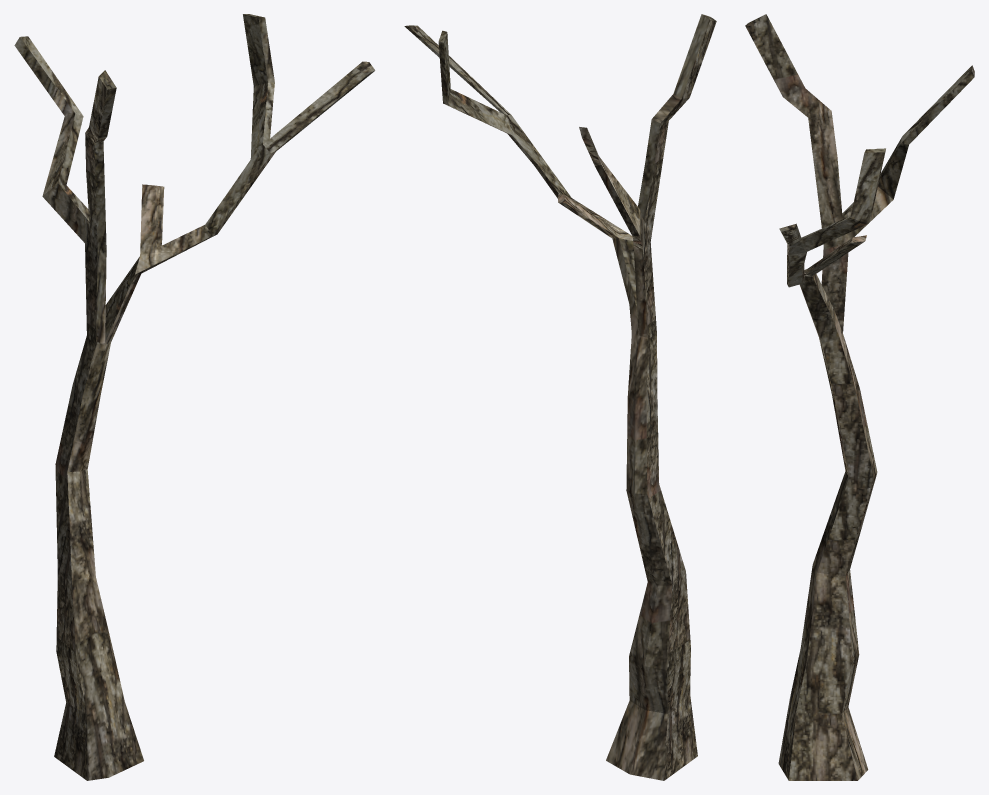
File: Tree 1.fbx
3 views of the same model, side by side, from view 1: azimuth 30°, elevation 25°; view 2: azimuth 150°, elevation 25°; view 3: azimuth 270°, elevation 25° (orthographic). The views are drawn at different scales.
Visible parts, largest first — view 1: Cube; view 2: Cube; view 3: Cube.
Part boxes in pixels (bbox=[...]): Cube: bbox=[14, 14, 375, 780]; Cube: bbox=[404, 14, 716, 780]; Cube: bbox=[745, 14, 974, 780].
Bounding box in the file's own units: 1001 × 2388 × 665.
